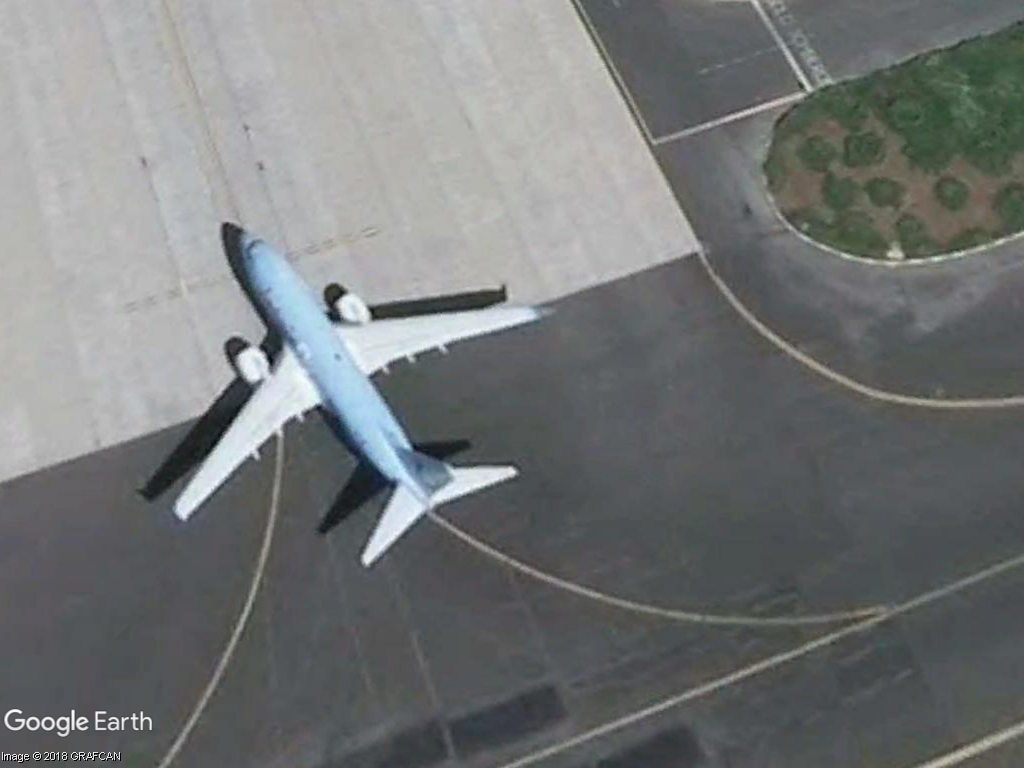airliner: (142, 225, 557, 577)
